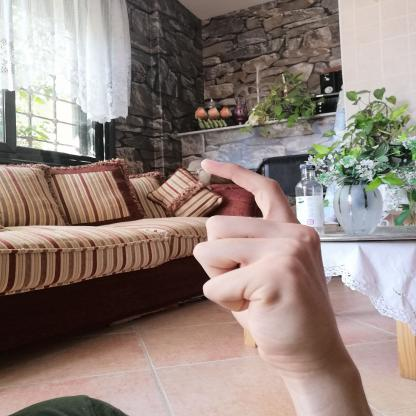RAA: (179, 150, 349, 370)
